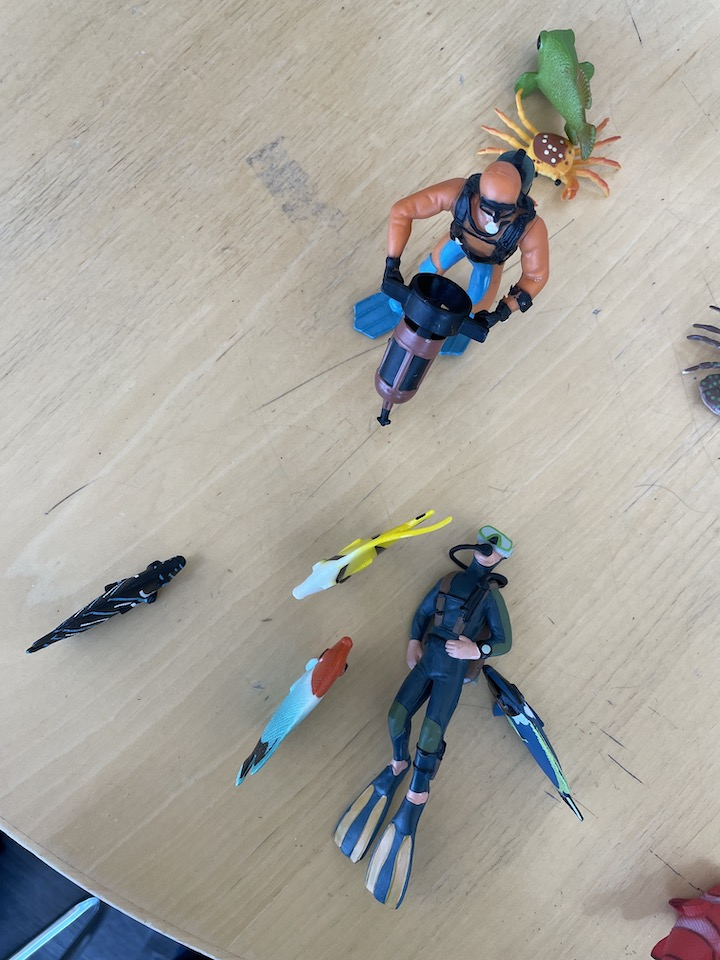crab: (460, 80, 624, 211), (679, 296, 720, 427)
danger: (281, 506, 458, 599)
diver: (328, 517, 520, 915), (352, 148, 552, 432)
fish: (231, 632, 358, 790), (24, 552, 192, 664), (517, 21, 604, 163), (649, 876, 720, 960)
